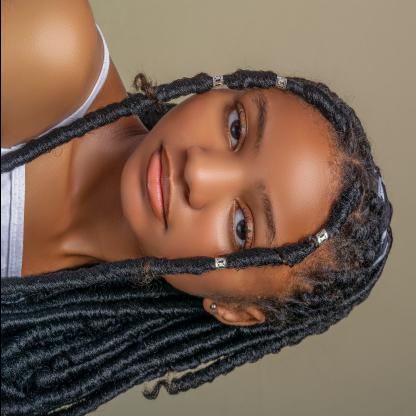Eye: (227, 200, 253, 251), (224, 102, 246, 156)
Mouth: (145, 142, 171, 230)
Nose: (183, 146, 236, 208)
